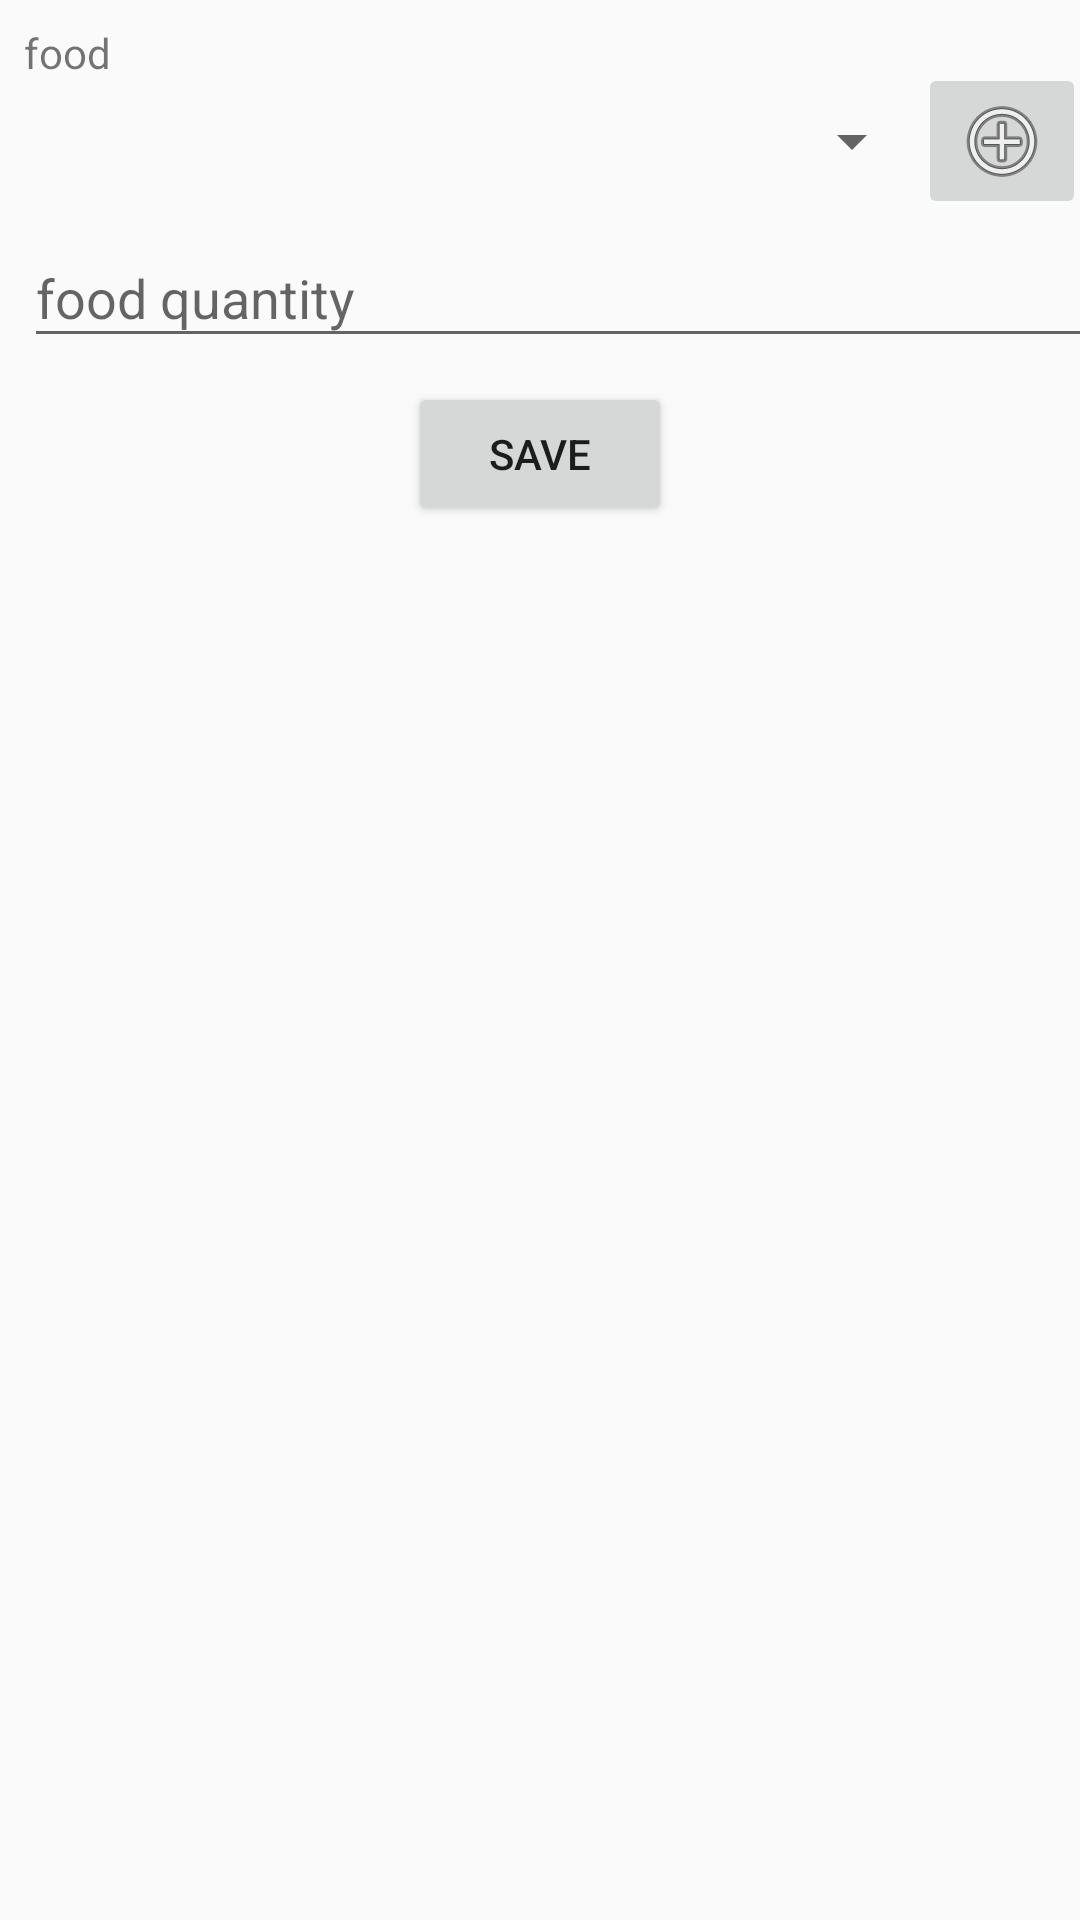

Icon click points for this 1080w x 1920h phone screenshot, format point (x, y):
add: point (1002, 141)
